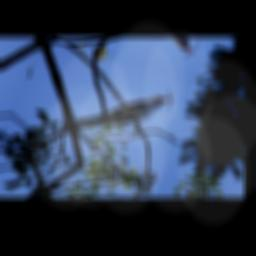Cuckoo: (73, 75, 175, 147)
